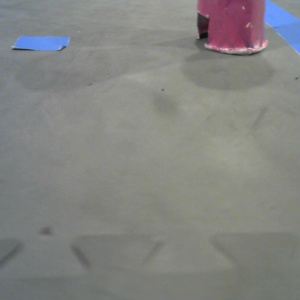right: (194, 1, 269, 55)
